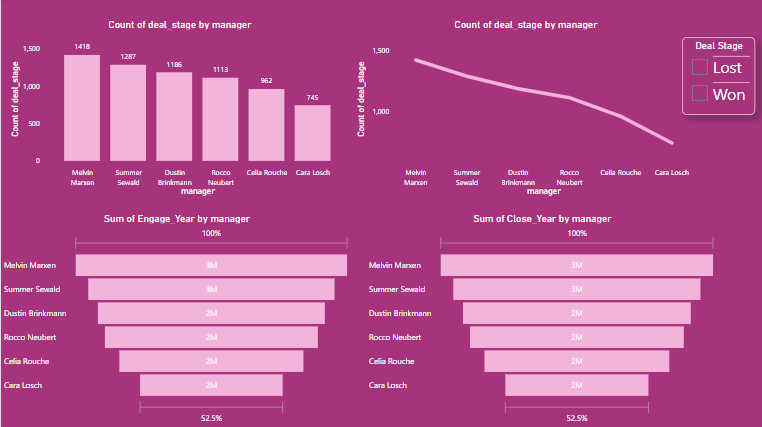

The page's visual inventory and layout, read from the dashboard file:
{"tool":"powerbi","page":{"name":"Page 4","canvas":[1280,720],"ordinal":3},"visuals":[{"type":"funnel","fields":{"Category":["sales_teams.manager"],"Y":["Sum(sales_pipeline.Engage_Year)"]},"box":[0,359.5,591.3,361.2],"z":0},{"type":"funnel","fields":{"Category":["sales_teams.manager"],"Y":["Sum(sales_pipeline.Close_Year)"]},"box":[613.1,359.5,593,361.2],"z":1},{"type":"columnChart","fields":{"Category":["sales_teams.manager"],"Y":["CountNonNull(sales_pipeline.deal_stage)"]},"box":[10.1,33.6,581.2,304],"z":2},{"type":"slicer","title":"Deal Stage","fields":{"Values":["sales_pipeline.deal_stage"]},"box":[1143.9,65.5,122.6,131],"z":3},{"type":"lineChart","fields":{"Category":["sales_teams.manager"],"Y":["CountNonNull(sales_pipeline.deal_stage)"]},"box":[591.3,33.6,581.2,304],"z":4}]}

Visuals, with their boxes in screenshot pixels (x1, y1, x2, y2), scaled from the page's 1280x720 canvas onto the 762x427 screenshot:
funnel - sales_teams.manager x Sum(sales_pipeline.Engage_Year): bbox=(0, 213, 352, 426)
funnel - sales_teams.manager x Sum(sales_pipeline.Close_Year): bbox=(365, 213, 718, 426)
columnChart - sales_teams.manager x CountNonNull(sales_pipeline.deal_stage): bbox=(6, 20, 352, 200)
"Deal Stage" slicer: bbox=(681, 39, 754, 117)
lineChart - sales_teams.manager x CountNonNull(sales_pipeline.deal_stage): bbox=(352, 20, 698, 200)
